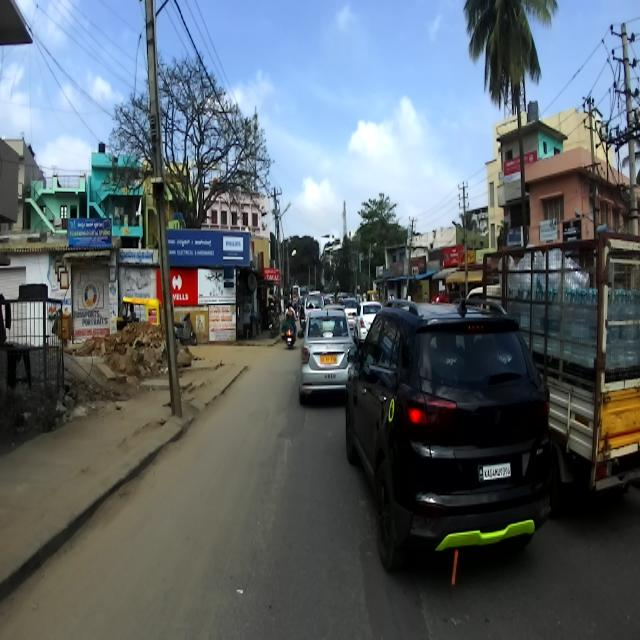car ahead at: (350, 298, 556, 569), (300, 302, 351, 400)
electric pole ahead at: (128, 2, 198, 424)
